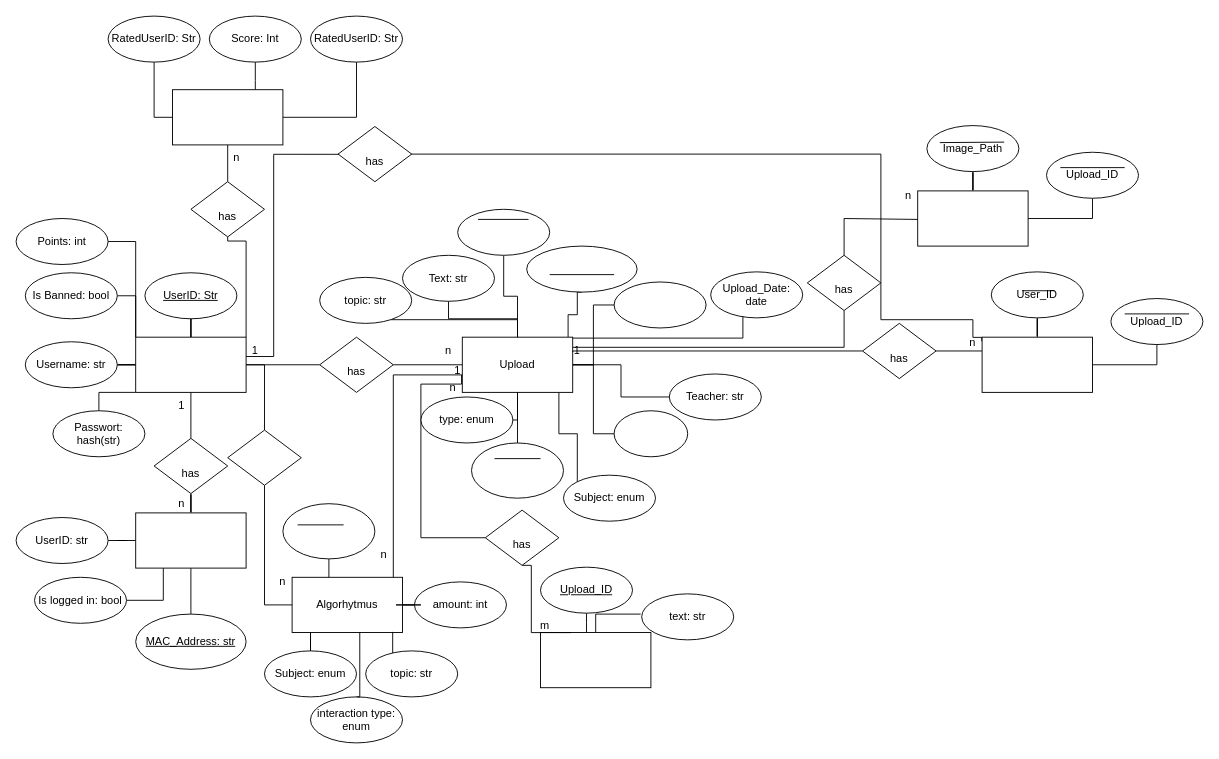
This 1219x759 diagram has some shape labels left out. Here are the shapes that lost their labels. From the top down, the centre of each, then its label:
At point 227,117: "Rating".
At point 503,231: "Reference: UploadID".
At point 972,218: "Upload Image".
At point 581,268: "Upload_ ID : str".
At point 659,304: "Path: str".
At point 190,364: "User".
At point 1036,364: "Upload Like".
At point 650,433: "num_likes: int".
At point 264,457: "does".
At point 517,470: "Author_ID: UserID".
At point 190,540: "MAC-Address".
At point 328,531: "User_ID: str".
At point 595,660: "Hashtag".
